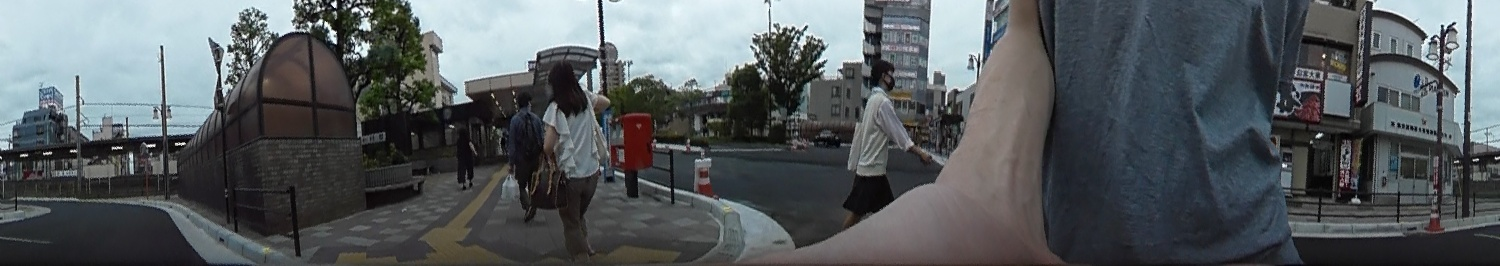person: (840, 57, 926, 228), (540, 55, 606, 261), (506, 88, 548, 215), (452, 124, 475, 187)
